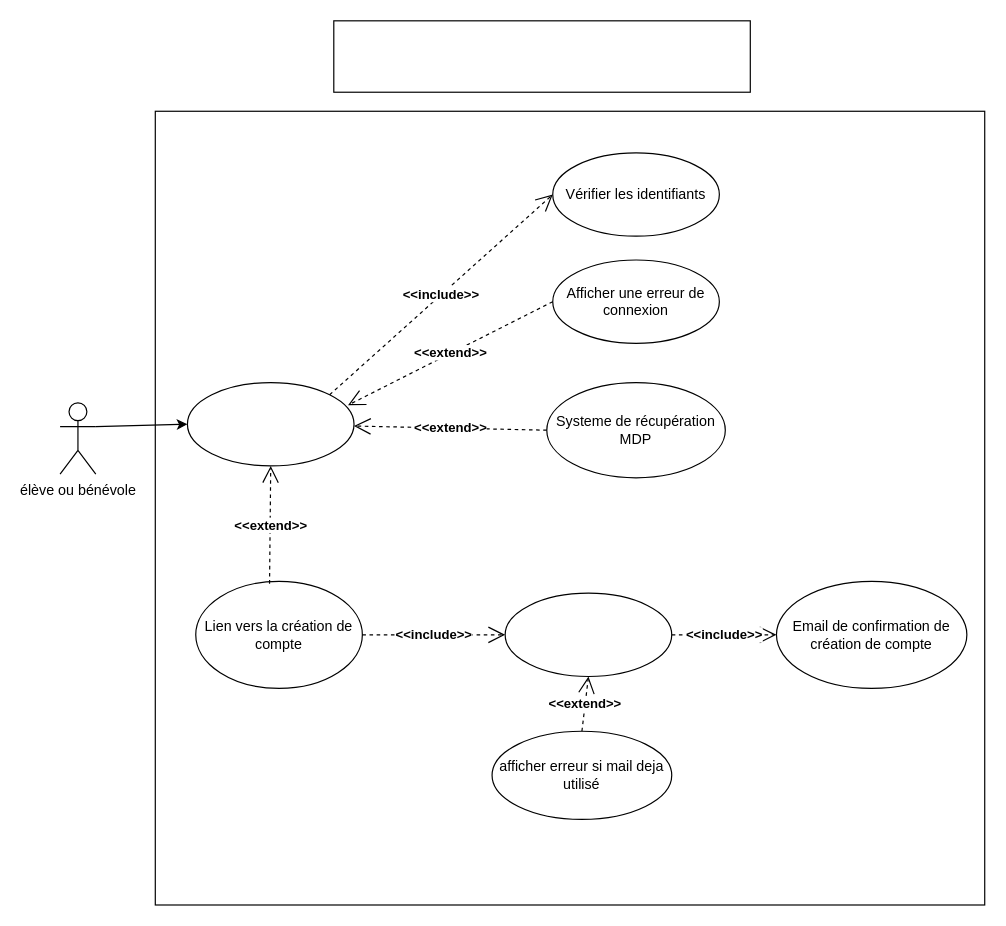
Image size: 1006x926. Some labels were removed from this diagram. Each missing label, with the box of its shape:
page de connexion: (333, 20, 750, 92)
Saisir email & MDP: (504, 592, 672, 677)
Se connecter: (186, 381, 354, 466)
